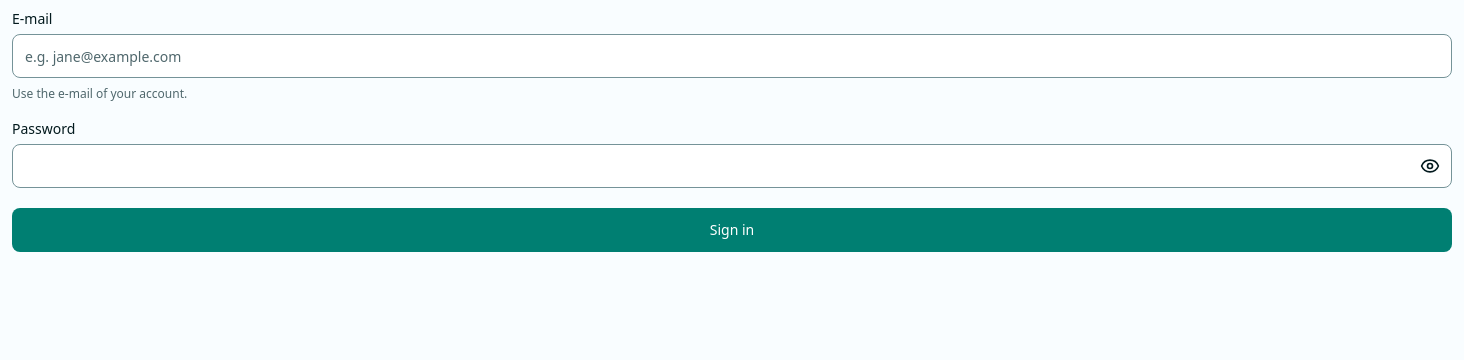
Scenario: SignInWithRedirect › refuses a participant on the organizer sign-in and ends the session again
Type "ucastnik@example.com" into the field labelled "E-mail".
click(732, 56); type("ucastnik@example.com")  # box [12,34,1452,78]
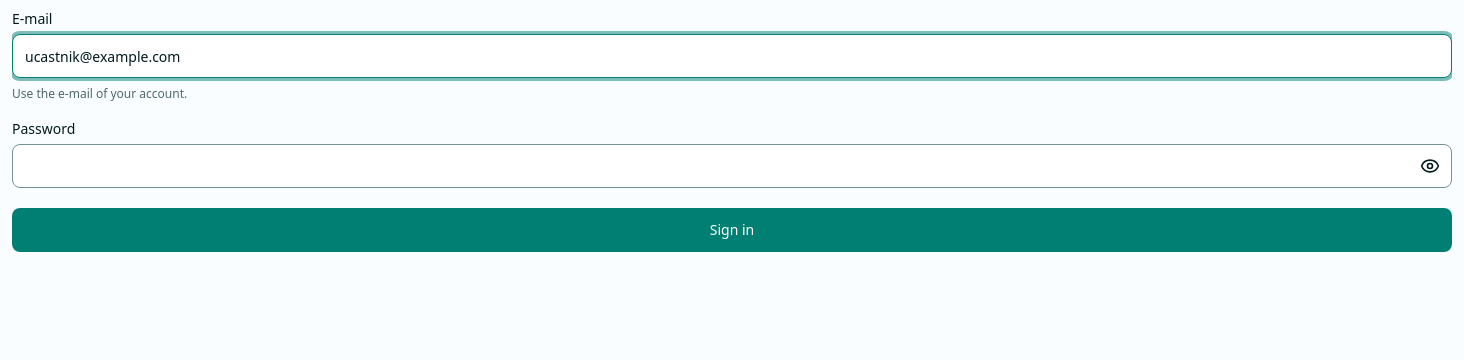
Type "password4" into the password field labelled "Password".
click(732, 166); type("password4")  # box [12,144,1452,188]
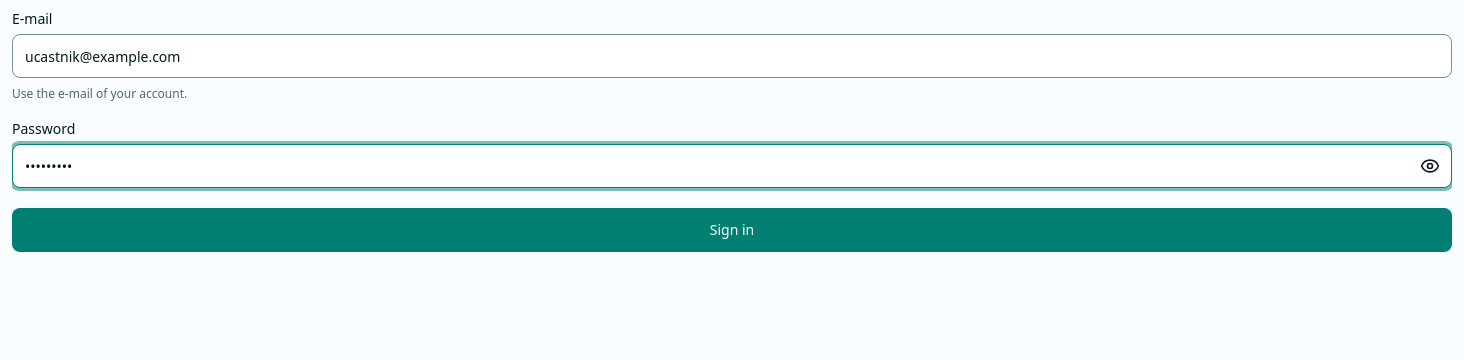
Click the button "Sign in".
click(732, 230)  # box [12,208,1452,252]
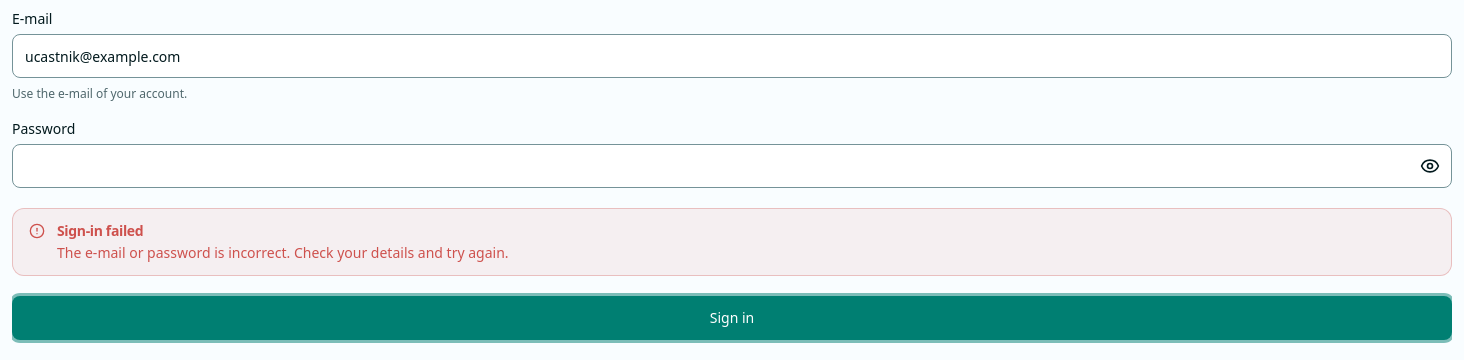
Expected: the message shows "The e-mail or password is incorrect. Check your details and try again.", [57,243,508,262]
